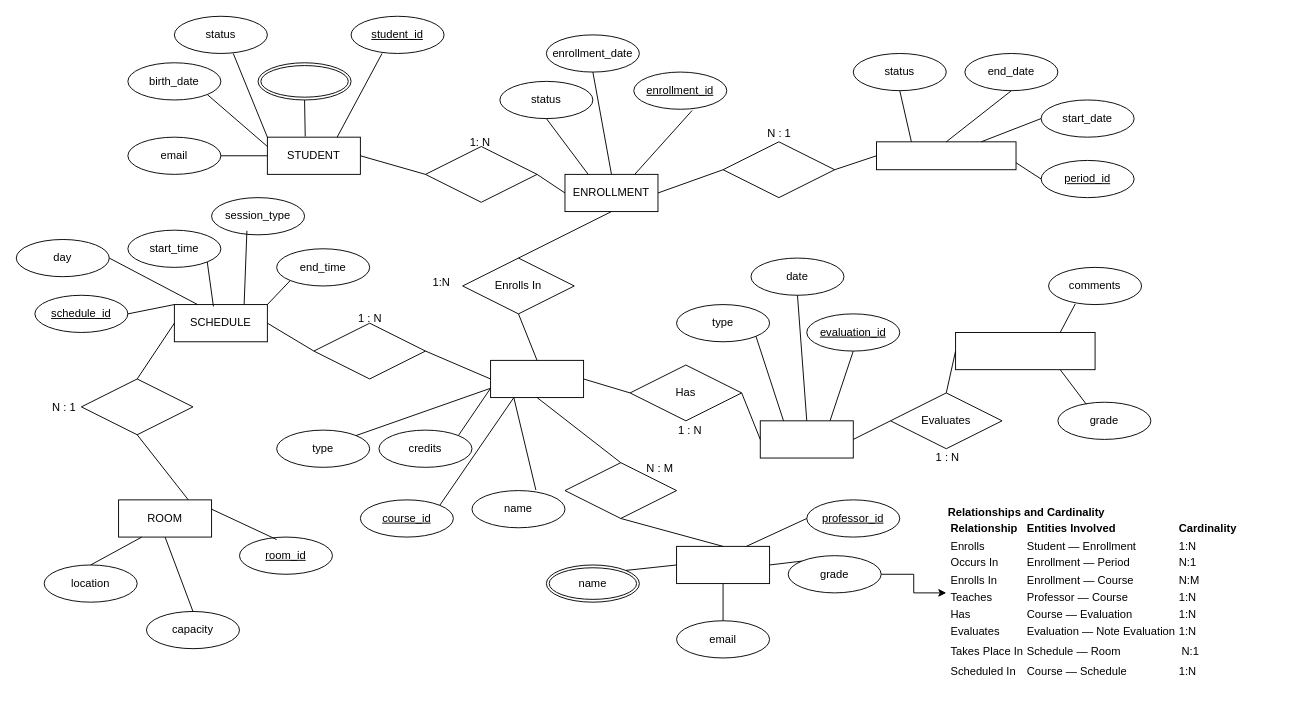
Some shapes in this 1297 by 714 pixel diagram are drawn without their labels. The box of each missing label's shape, as (x1, y1, x2, y2) in pixels:
COURSE: (490, 359, 584, 398)
Enrolls: (425, 146, 537, 202)
EVALUATION: (759, 420, 853, 458)
full_name: (257, 62, 351, 100)
GRADE_EVALUATION: (955, 332, 1095, 370)
Occurs In: (722, 141, 835, 198)
PERIOD: (876, 141, 1016, 170)
PROFESSOR: (676, 545, 770, 584)
Scheduled In: (313, 322, 425, 379)
Takes Place In: (80, 378, 193, 435)
Teaches: (564, 462, 677, 518)
